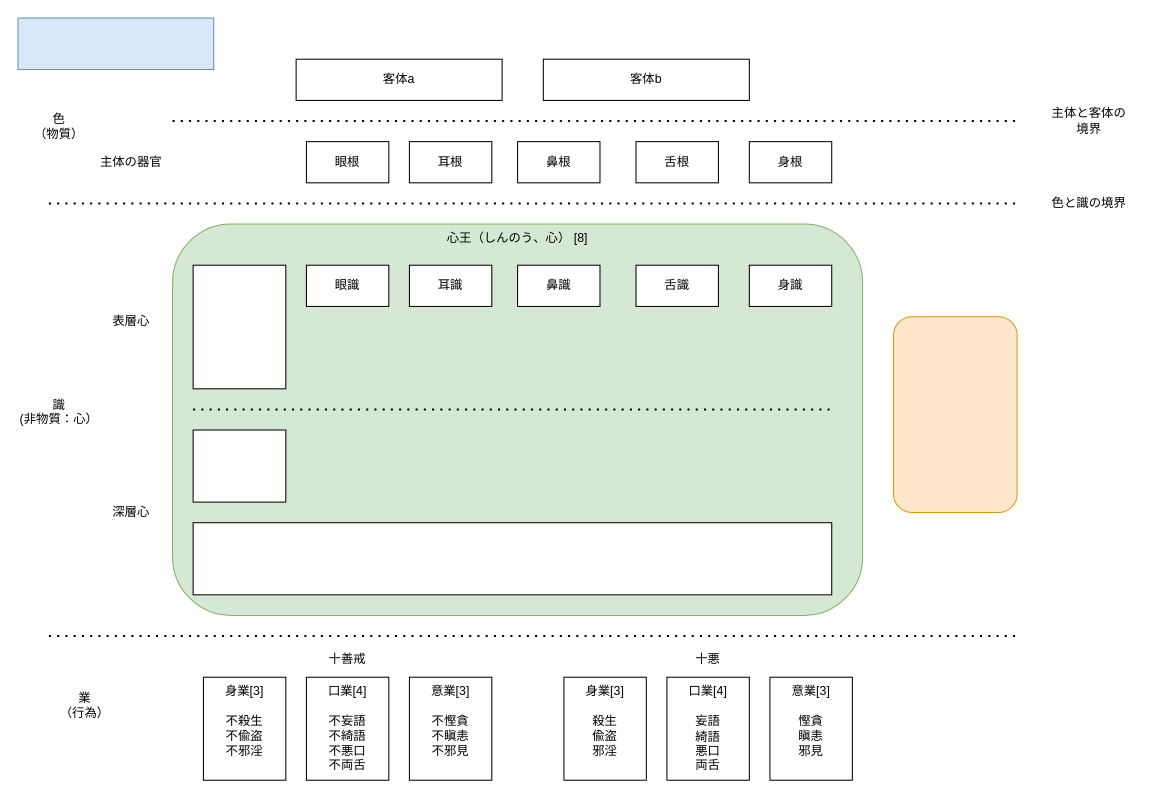
Some shapes in this 1159 by 798 pixel diagram are drawn without their labels. Here are the shapes that lost their labels. From the top down, the centre of each, then its label:
At (115,43): "唯識思想 全体像".
At (239,326): "意識 思考".
At (954,414): "心所 [51] （しんじょ） 細かい心作用 遍行 別境 善 煩悩 随 煩悩 不定".
At (239,465): "未那識 （まなしき） 自我執着心".
At (512,558): "阿頼耶識 （あらやしき：蔵識、一切種子識） 根本心、業の結果を貯蔵する".
